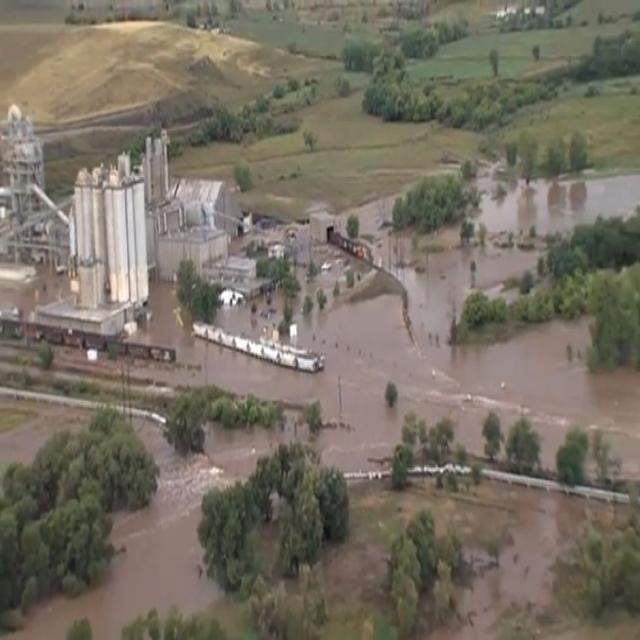flooded_areas: (0, 159, 633, 487)
